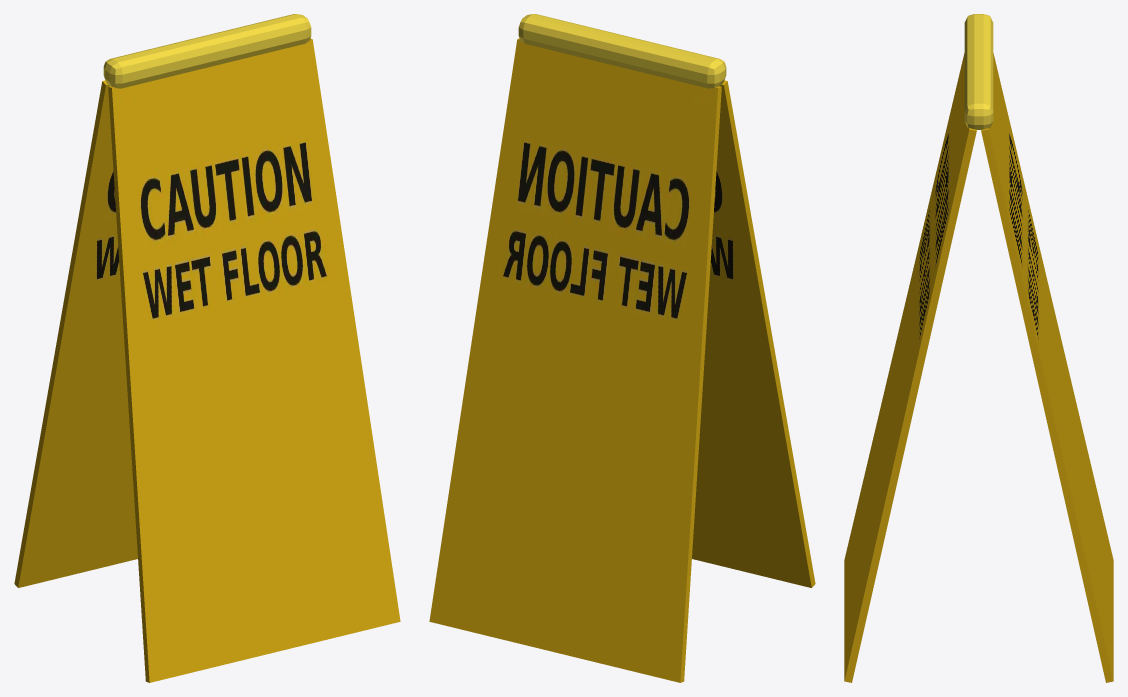
Rendered from wet_floor_sign.glb.
3 views of the same model, side by side, from view 1: azimuth 30°, elevation 25°; view 2: azimuth 150°, elevation 25°; view 3: azimuth 270°, elevation 25° (orthographic).
Visible parts, largest first — view 1: WetFloor; view 2: WetFloor; view 3: WetFloor.
Part boxes in pixels (x1,y1,x2,y2): WetFloor: [14, 14, 400, 682]; WetFloor: [429, 14, 815, 682]; WetFloor: [844, 14, 1113, 682].
Bounding box in the file's own units: 0.3 × 0.6466 × 0.28.
Materials: 2 (1 with a texture image).
